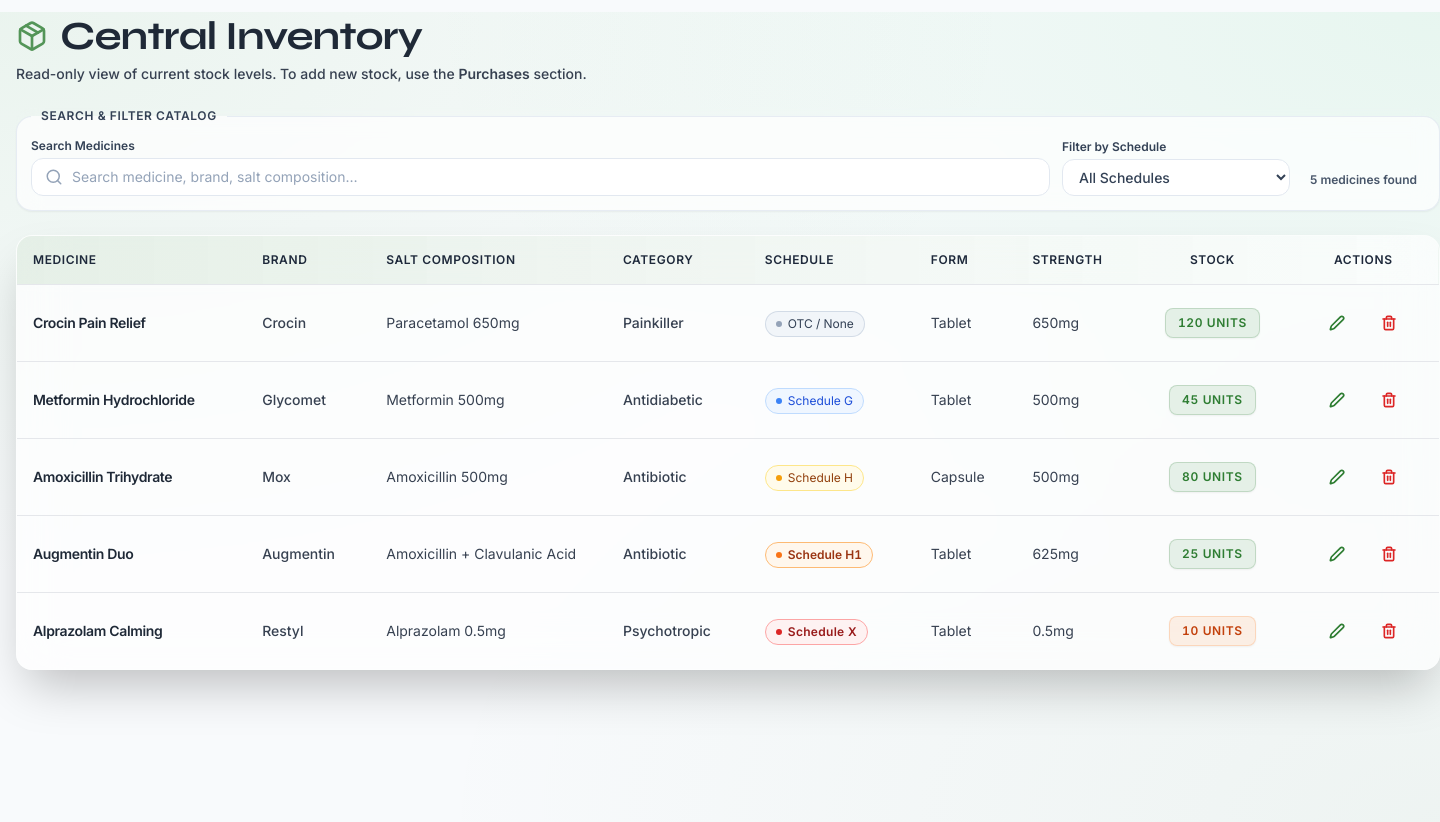
Scenario: Integration: Inventory Schedule & Filter Flow › filters medicines by schedule dropdown
Expected: the text "Crocin Pain Relief" is shown, left=33, top=314, right=146, bottom=331
Select "Schedule H1 (Controlled)" in the dropdown labelled "Filter by Schedule" at (1176, 178), box left=1062, top=159, right=1290, bottom=196
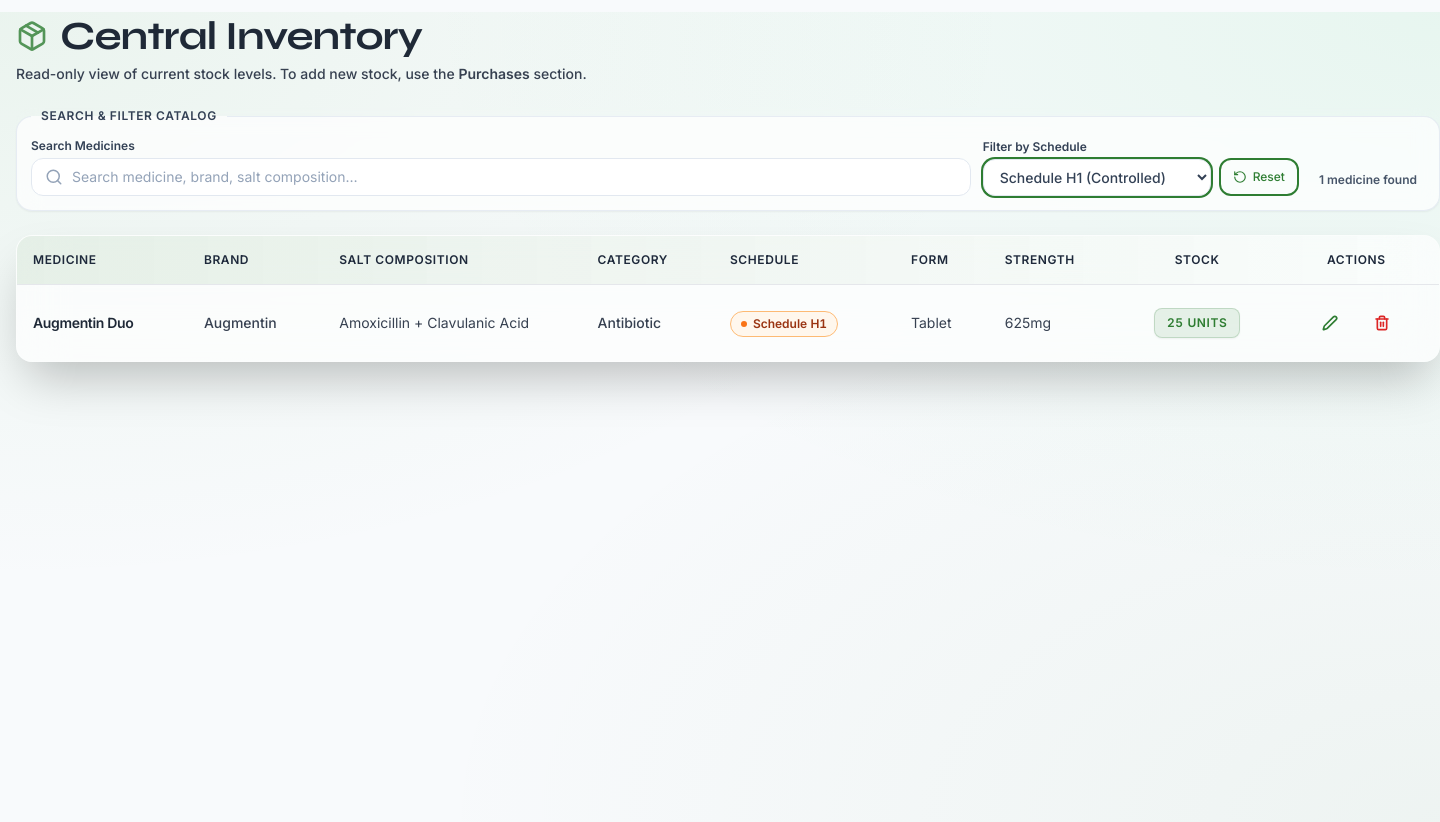
Expected: the text "Augmentin Duo" is shown, left=33, top=314, right=133, bottom=331
Now the text "Crocin Pain Relief" is gone
Now the text "Alprazolam Calming" is gone
